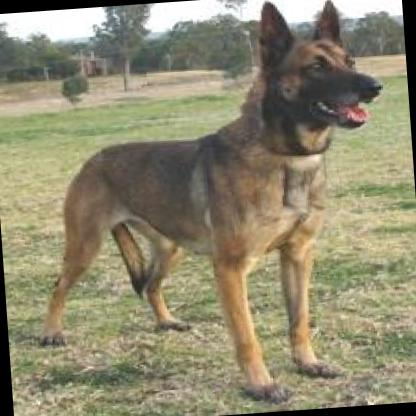malinois: (13, 0, 402, 416)
